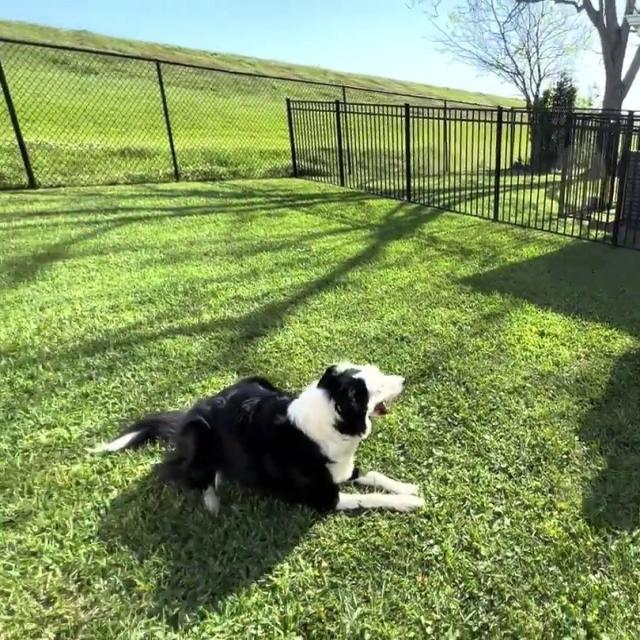Dog: (94, 359, 428, 518)
